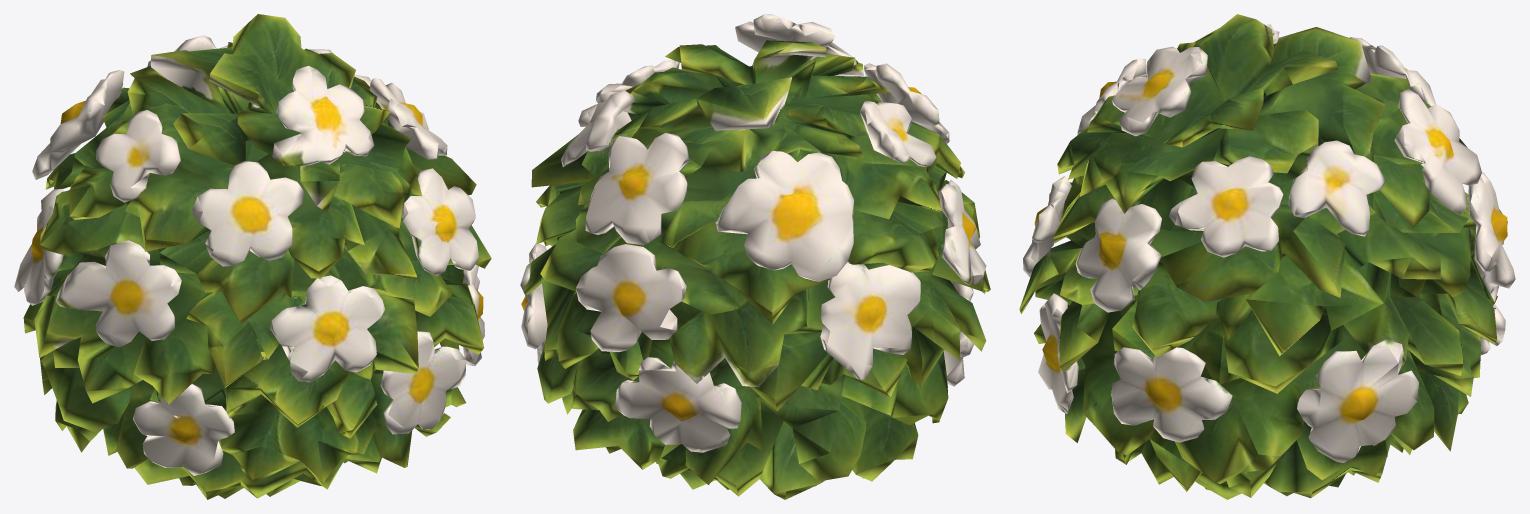
File: white_flower_bush.glb
3 renders of one model, left to right at view 1: azimuth 30°, elevation 25°; view 2: azimuth 150°, elevation 25°; view 3: azimuth 270°, elevation 25°, orthographic.
Parts seen in each view (by area): view 1: white_flower_bush; view 2: white_flower_bush; view 3: white_flower_bush.
Boxes of the visible parts, x1=… form: white_flower_bush: x1=14, y1=14, x2=491, y2=499; white_flower_bush: x1=520, y1=14, x2=990, y2=499; white_flower_bush: x1=1019, y1=14, x2=1515, y2=499.
Bounding box in the file's own units: 0.6731 × 0.65 × 0.679.
1 material, 1 textured.
